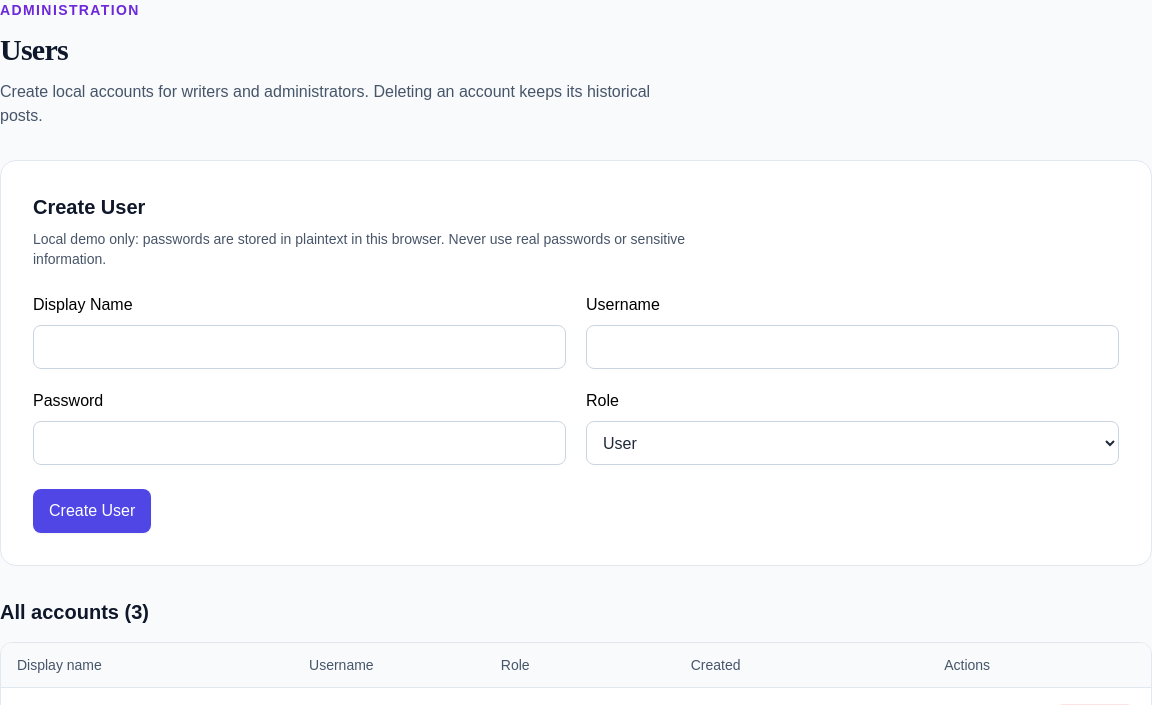
Test: associates missing displayName errors without saving
The width and height of the screenshot is (1152, 705).
In the field labelled "Display Name": (300, 347) [33,325,566,369], type " New Writer "
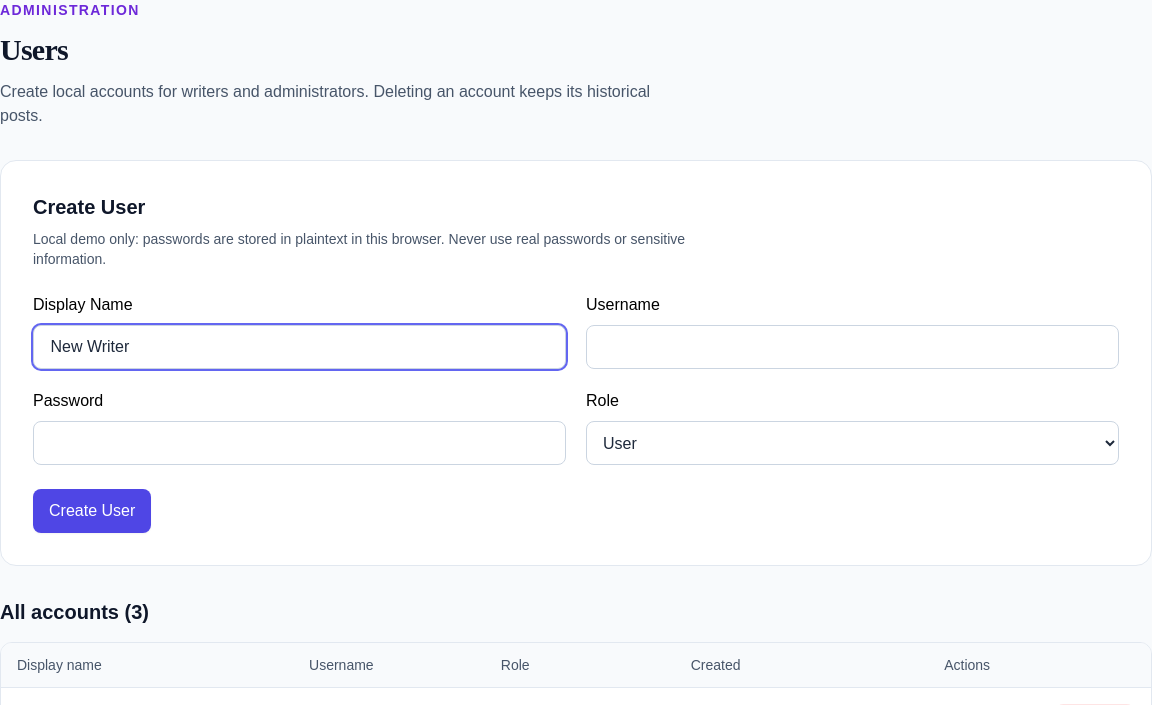
In the field labelled "Username": (852, 347) [586,325,1119,369], type "new-writer"
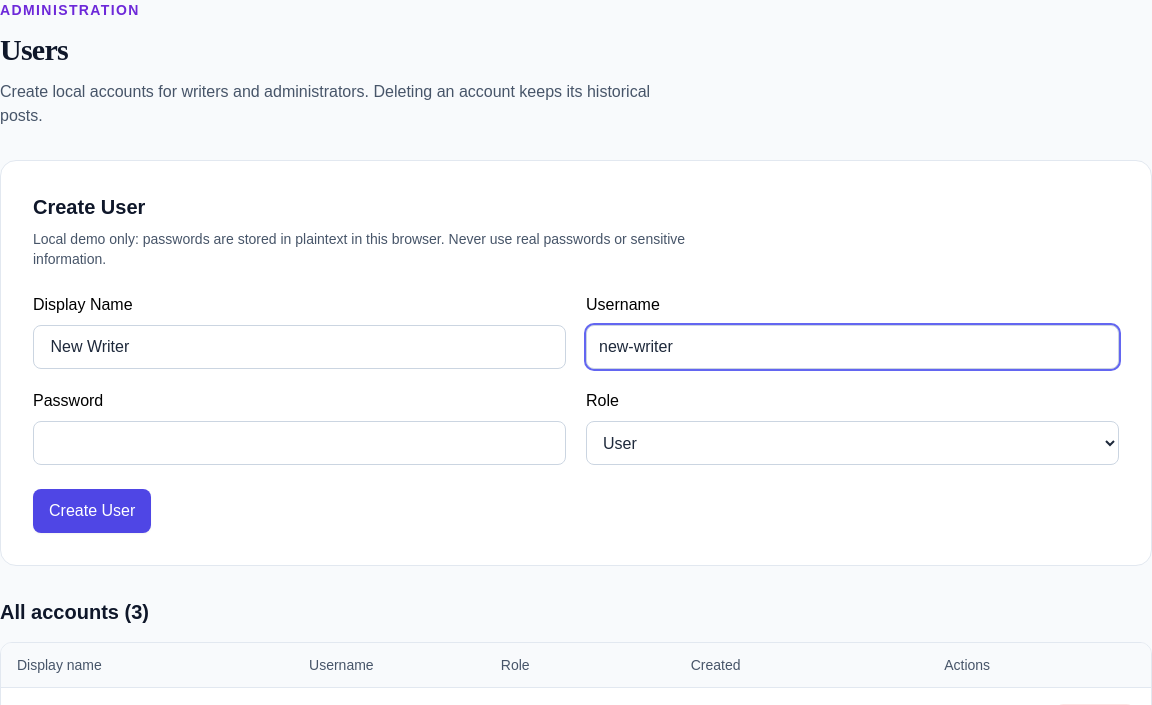
In the password field labelled "Password": (300, 443) [33,421,566,465], type " demo "
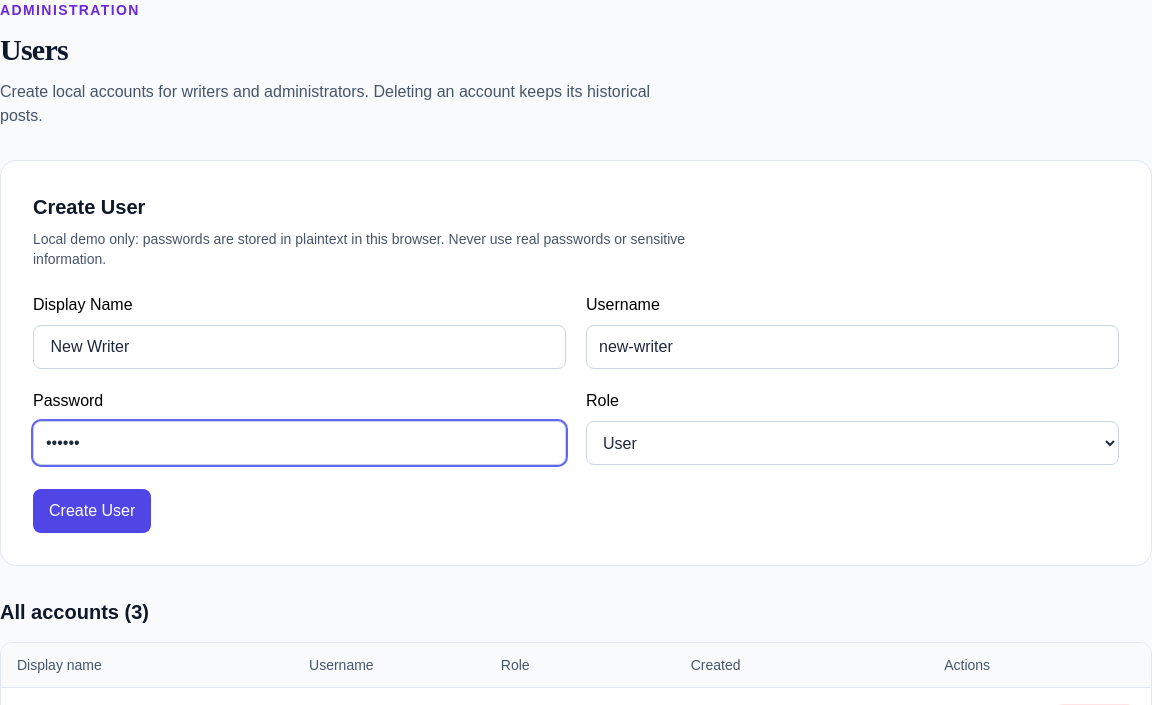
Select "User" in the dropdown labelled "Role": (852, 443) [586,421,1119,465]
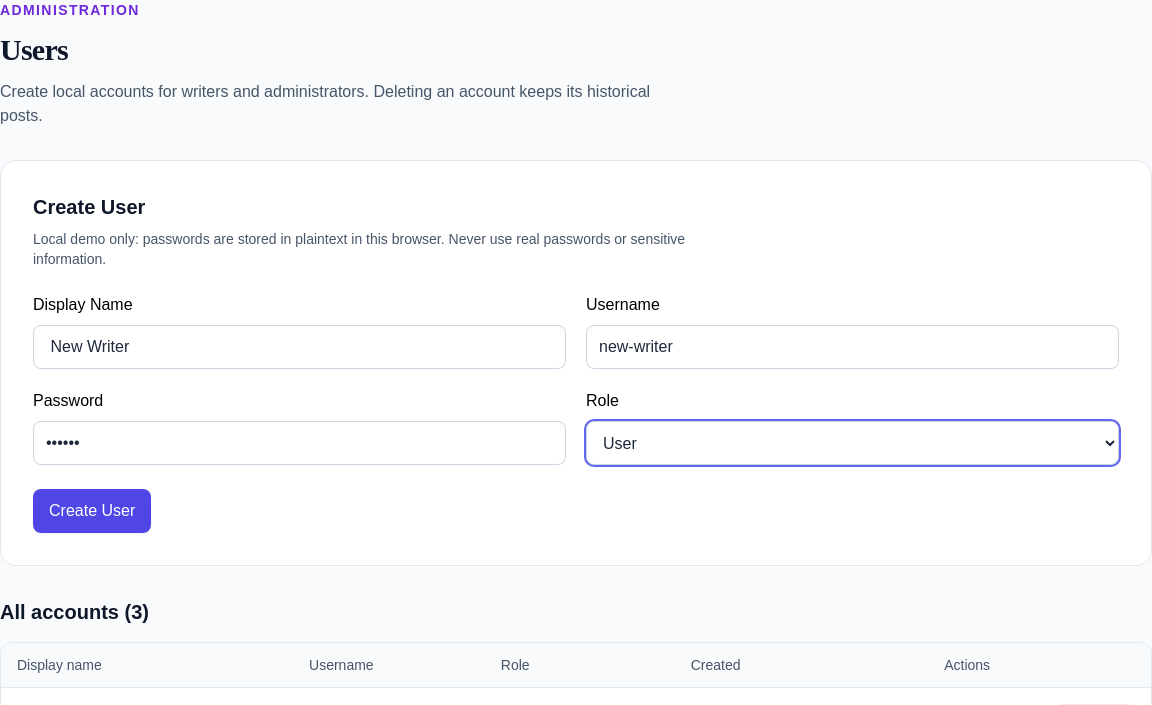
Clear the field labelled "Display Name": (300, 347) [33,325,566,369]
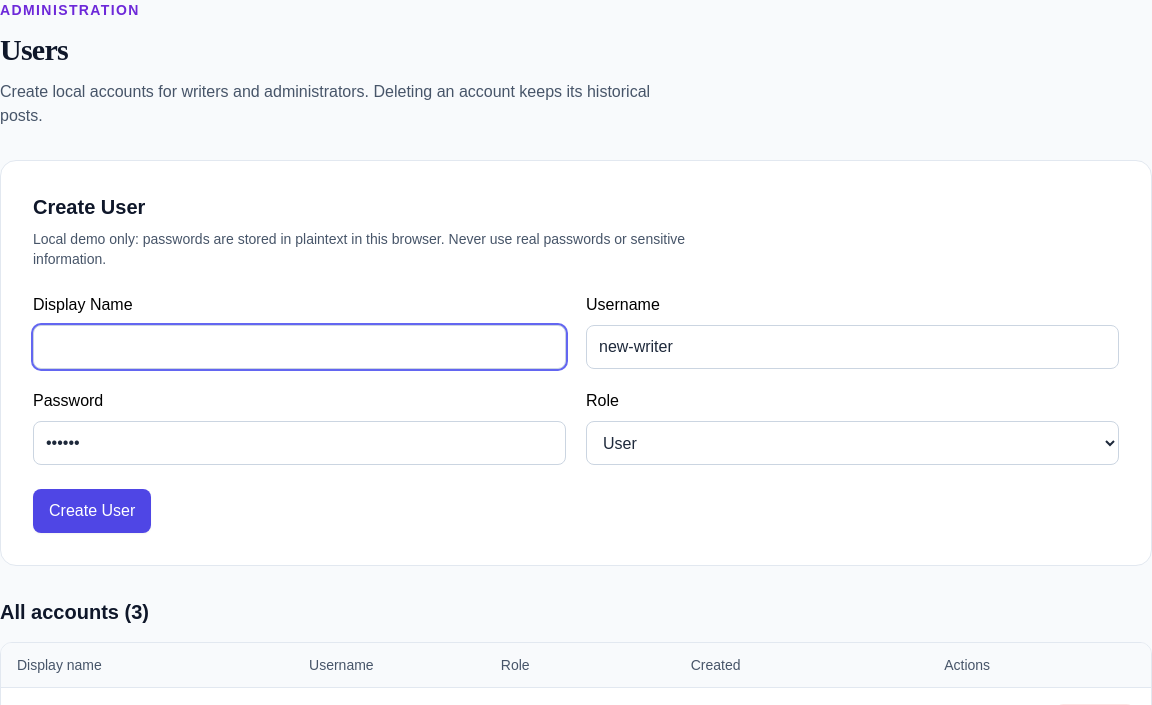
Click the button "Create User": (92, 511) [33,489,151,533]
(page scrolled)
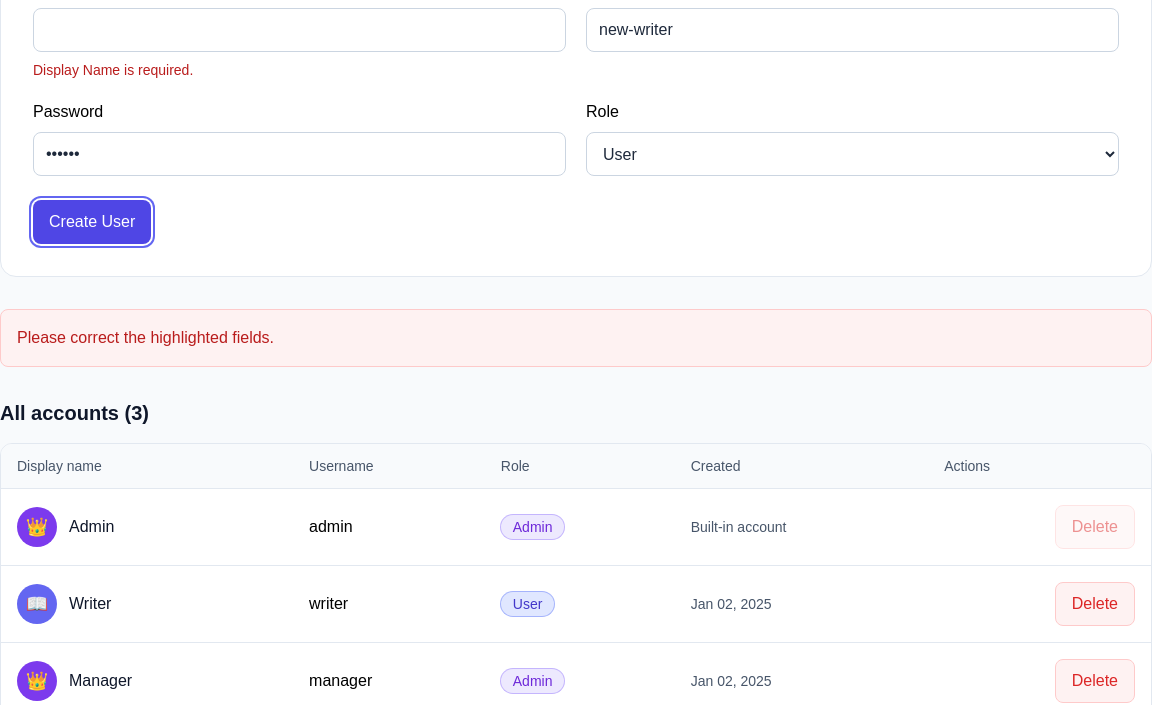
Now the message "Display Name is required." is shown, box [33,62,193,78]
